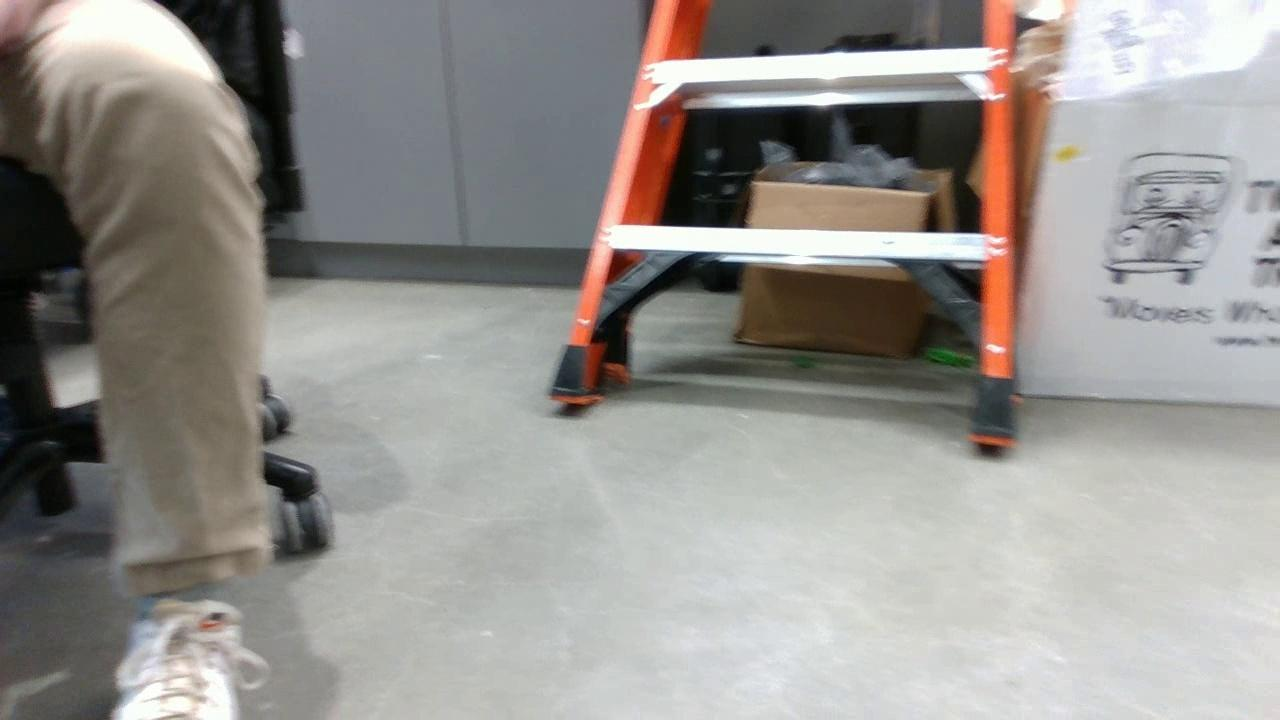grasshopper: (921, 347, 977, 370)
